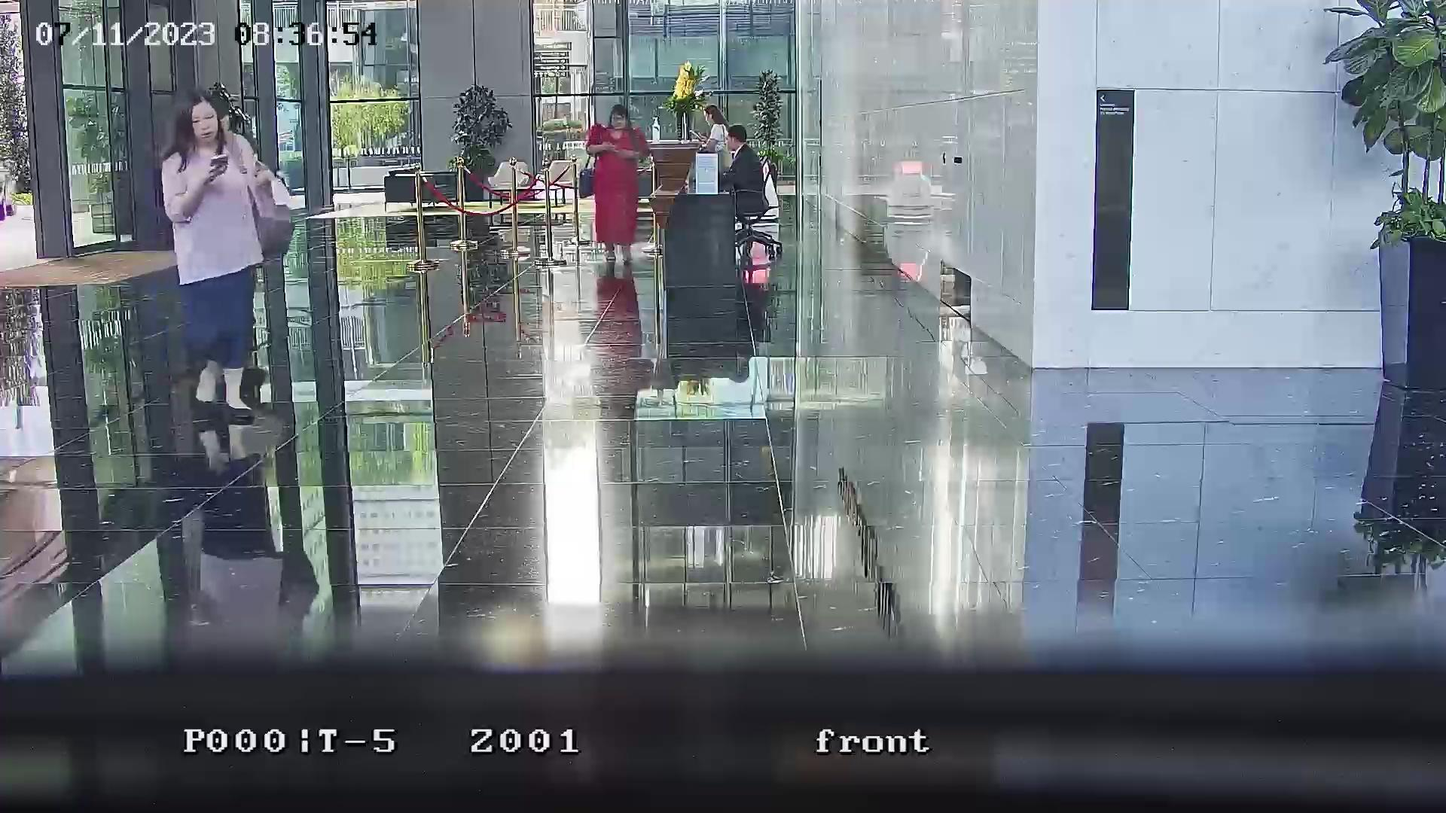person: (160, 96, 276, 421), (584, 104, 653, 266), (721, 124, 761, 214), (698, 104, 729, 153)
